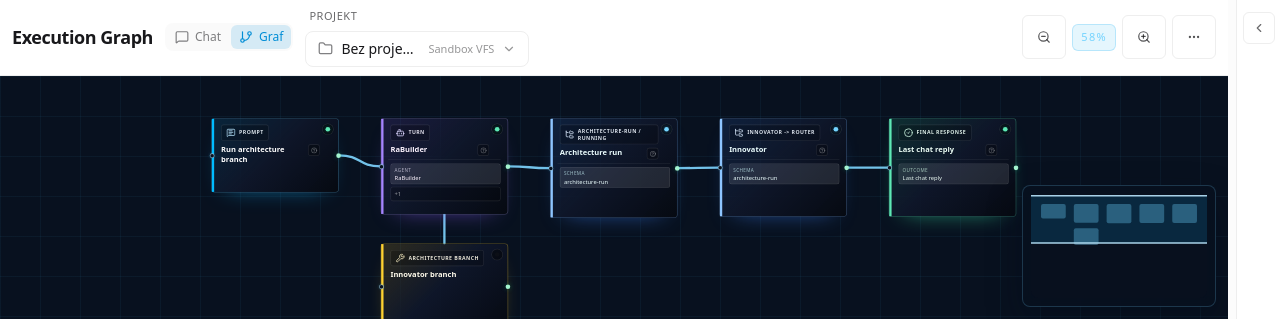
ExecutionGraphView empty-session state › defaults graph cards to compact density and can reveal detailed tool metadata
Click the button named "More graph controls" at (1194, 37), box [1172,15,1216,59]
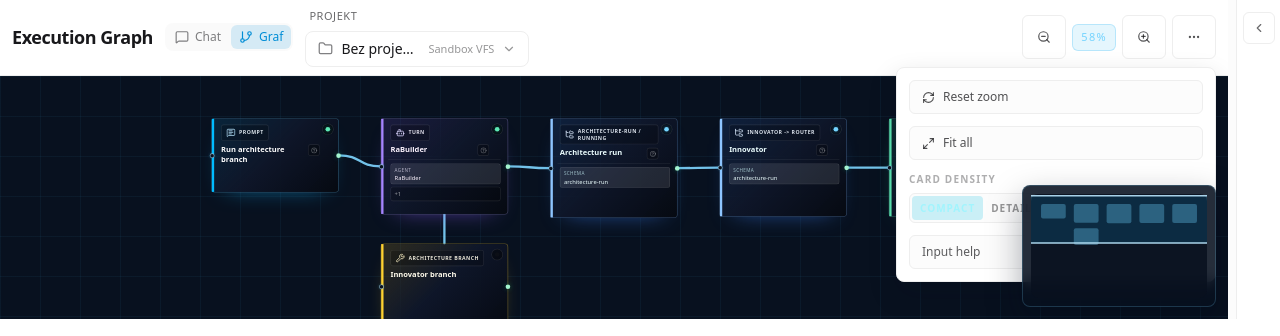
Expected: the text "Objective" is not shown
Click the button with test id "graph-card-density-detailed" at (1019, 208), box [983,196,1055,220]
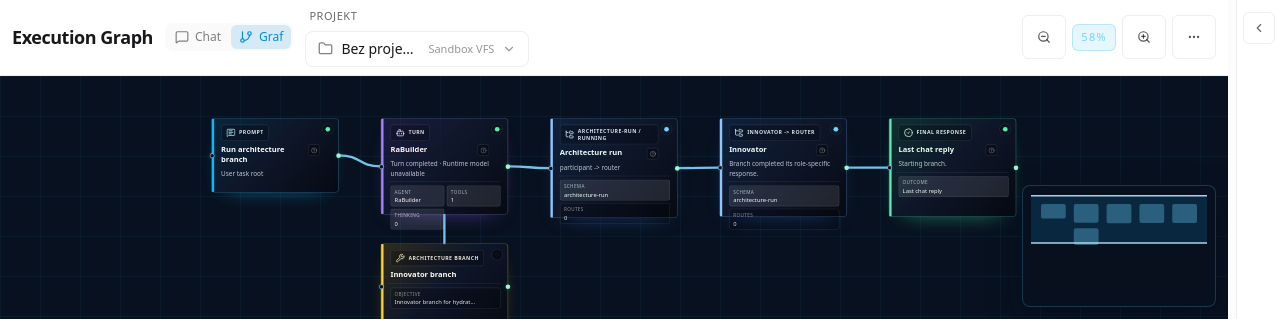
Result: the text "Objective" is shown at [394,290,421,296]
